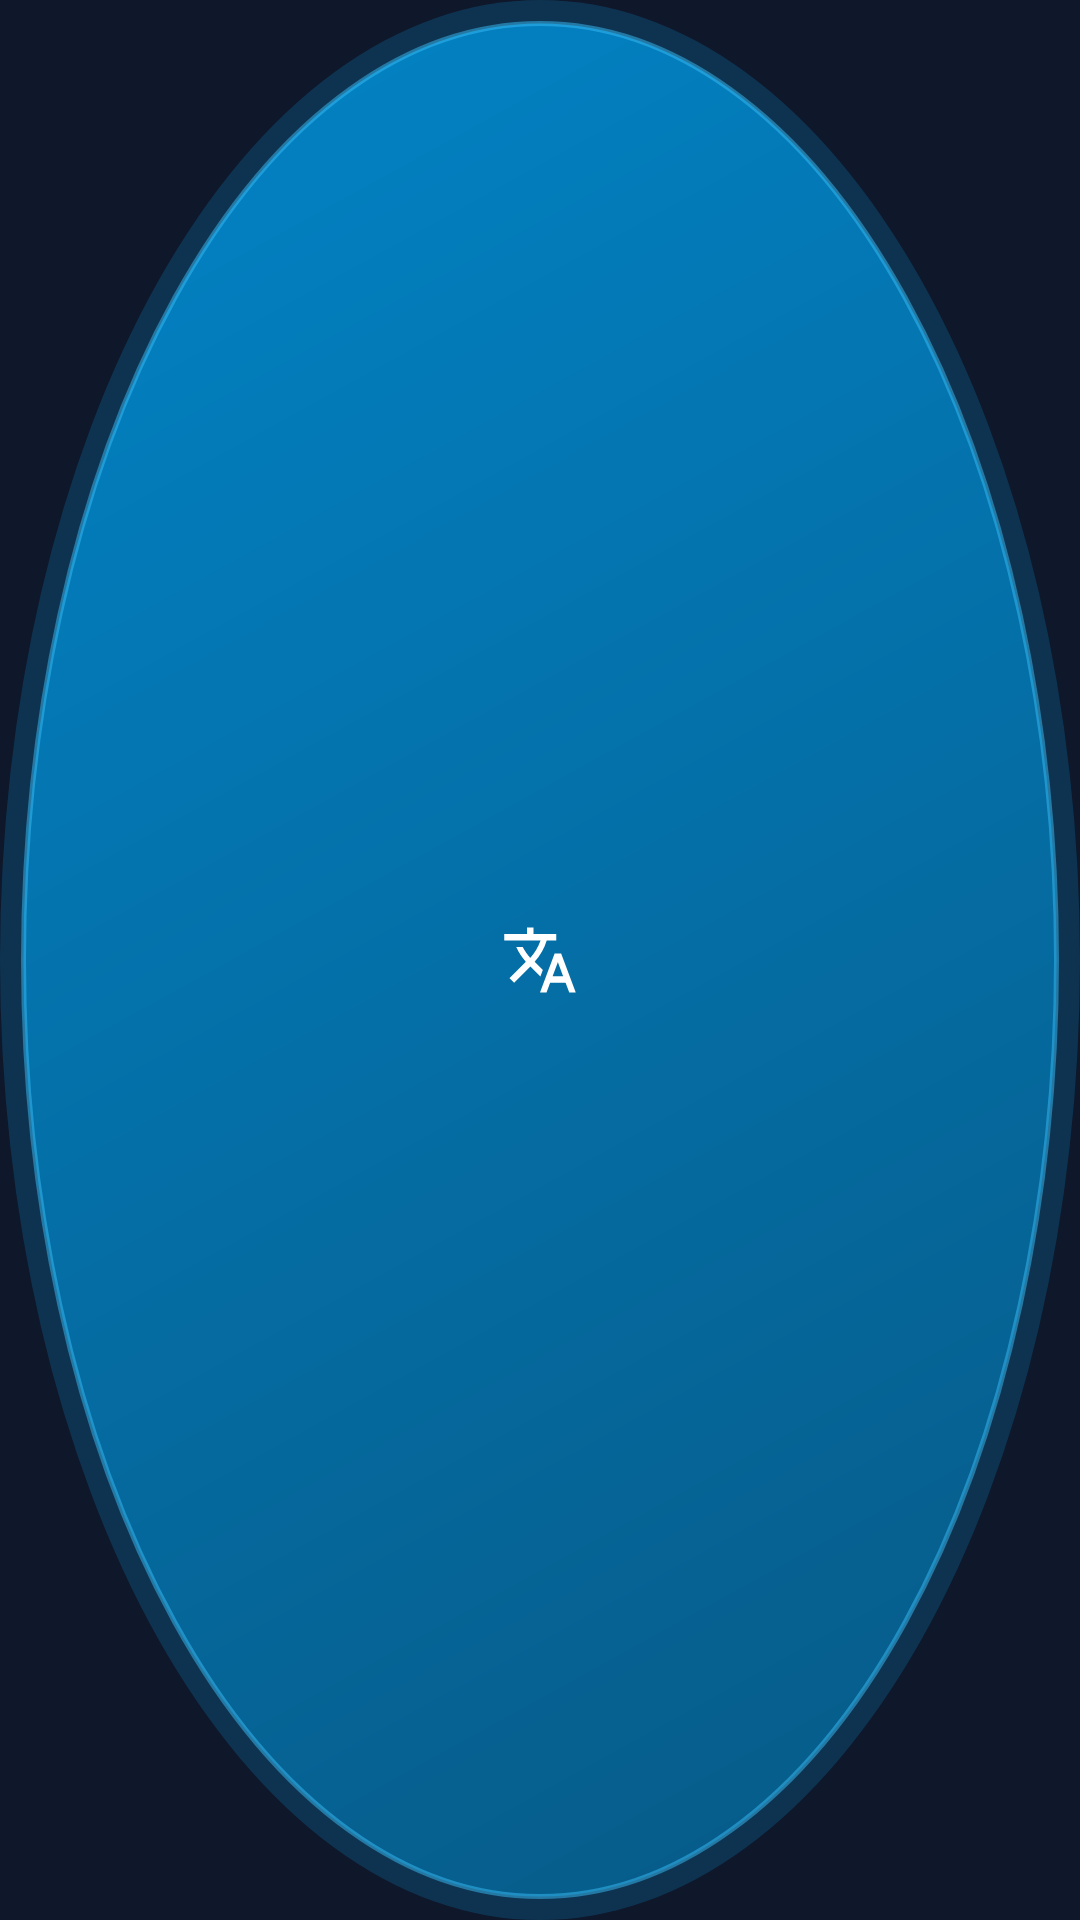

Icon click points for this 1080px x 1920px phone screenshot, format (x,y):
ترجمة الشاشة: (540,960)
